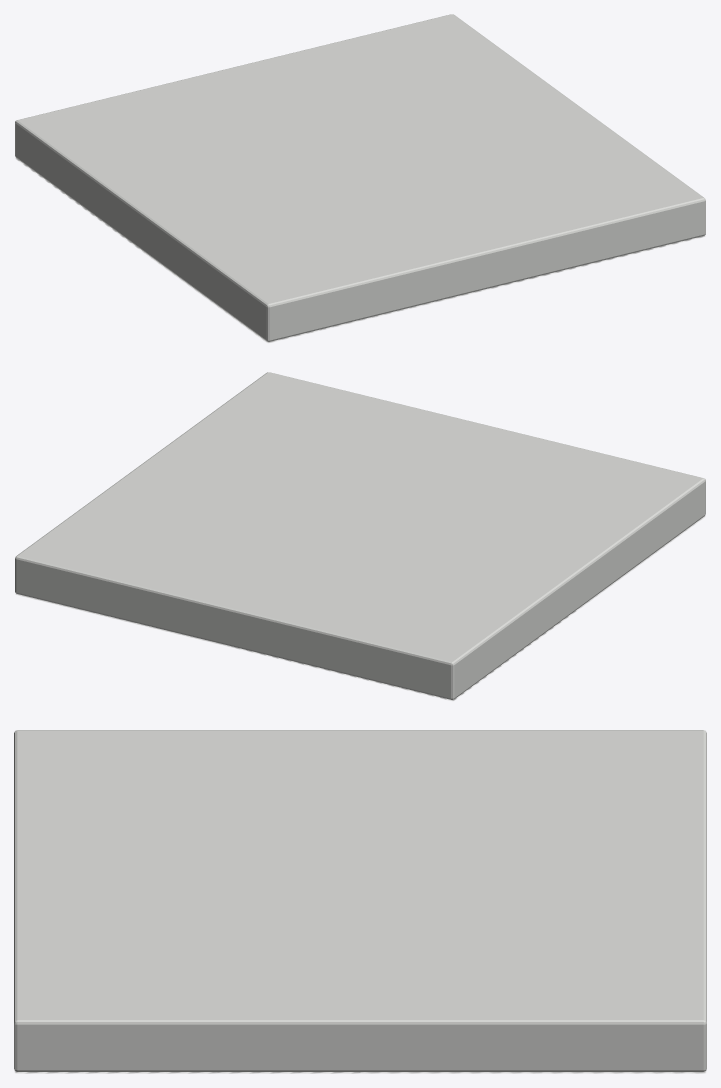
The model's file is dt2-pro.glb.
3 views of the same model, one above another, from view 1: azimuth 30°, elevation 25°; view 2: azimuth 150°, elevation 25°; view 3: azimuth 270°, elevation 25° (orthographic). The views are drawn at different scales.
Visible parts, largest first — view 1: DT2 Pro square microphone shell, DT2 Pro actual downward grille; view 2: DT2 Pro square microphone shell, DT2 Pro actual downward grille; view 3: DT2 Pro square microphone shell, DT2 Pro actual downward grille.
Boxes of the visible parts, <box> form: DT2 Pro square microphone shell: <box>15,14,705,341</box>; DT2 Pro actual downward grille: <box>15,158,705,343</box>; DT2 Pro square microphone shell: <box>15,372,705,699</box>; DT2 Pro actual downward grille: <box>15,516,705,701</box>; DT2 Pro square microphone shell: <box>14,730,706,1071</box>; DT2 Pro actual downward grille: <box>14,1069,706,1073</box>.
Bounding box in the file's own units: 0.595 × 0.0495 × 0.595.
Materials: 2 (1 with a texture image).
